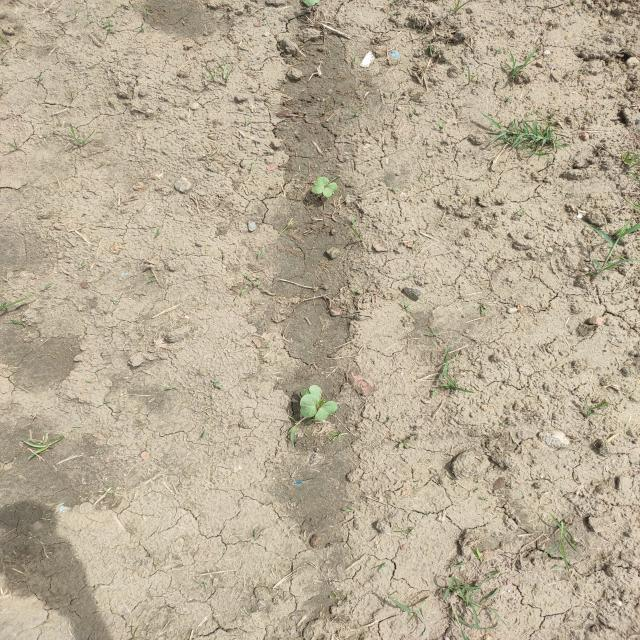seedling_s2: (299, 393, 319, 418), (315, 401, 338, 420), (312, 177, 328, 194), (323, 182, 338, 197), (309, 385, 321, 399)
